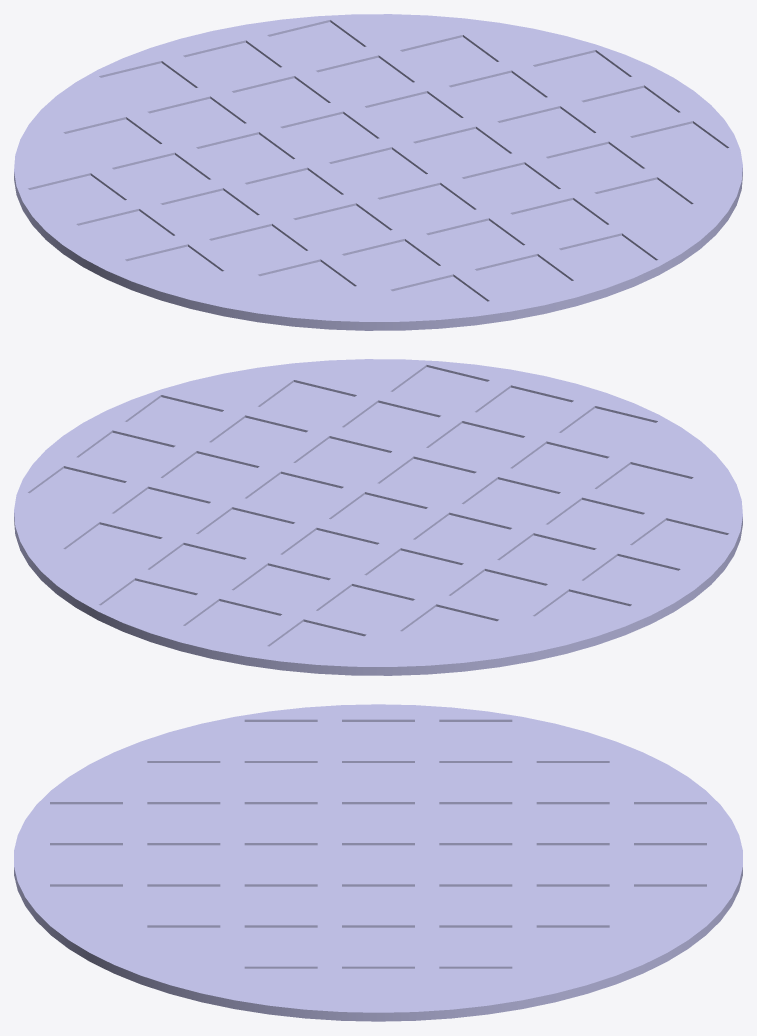
Rendered from ETC_Wafer.fbx.
The picture shows the model from 3 angles, top to bottom: view 1: azimuth 30°, elevation 25°; view 2: azimuth 150°, elevation 25°; view 3: azimuth 270°, elevation 25°; orthographic projection.
Visible parts, largest first — view 1: ETC_Wafer; view 2: ETC_Wafer; view 3: ETC_Wafer.
Part boxes in pixels (x1=…): ETC_Wafer: x1=14, y1=14, x2=742, y2=330; ETC_Wafer: x1=14, y1=359, x2=742, y2=675; ETC_Wafer: x1=14, y1=704, x2=742, y2=1021.
Size of the model in its own units: 30 by 0.4 by 29.96.
